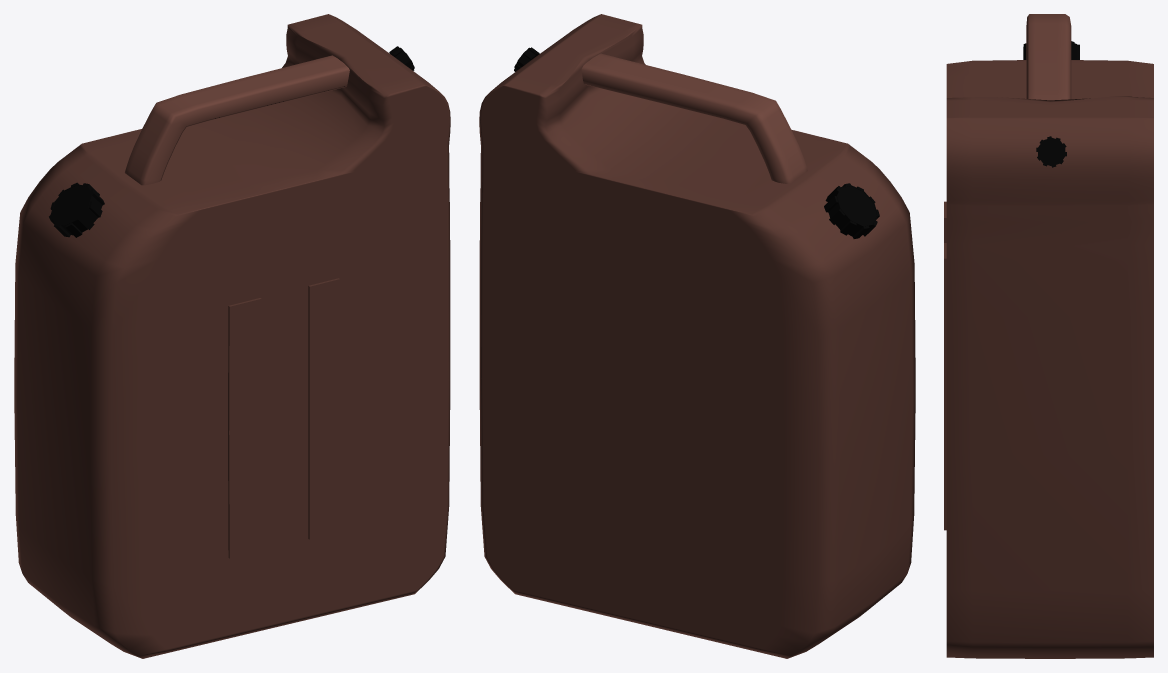
Rendered from gastank.fbx.
3 renders of one model, left to right at view 1: azimuth 30°, elevation 25°; view 2: azimuth 150°, elevation 25°; view 3: azimuth 270°, elevation 25°, orthographic. The views are drawn at different scales.
Parts seen in each view (by area): view 1: polySurface4, polySurface2, polySurface3; view 2: polySurface4, polySurface2, polySurface3; view 3: polySurface4, polySurface2, polySurface1.
Boxes of the visible parts, box(x1,y1,x2,y2) form: polySurface4: box(14, 14, 450, 658); polySurface2: box(125, 55, 349, 185); polySurface3: box(49, 182, 104, 237); polySurface4: box(479, 14, 915, 658); polySurface2: box(581, 53, 807, 183); polySurface3: box(824, 183, 879, 238); polySurface4: box(944, 60, 1153, 658); polySurface2: box(1026, 14, 1071, 100); polySurface1: box(1036, 136, 1066, 167).
Size of the model in its own units: 5.67 by 7.64 by 2.66.
